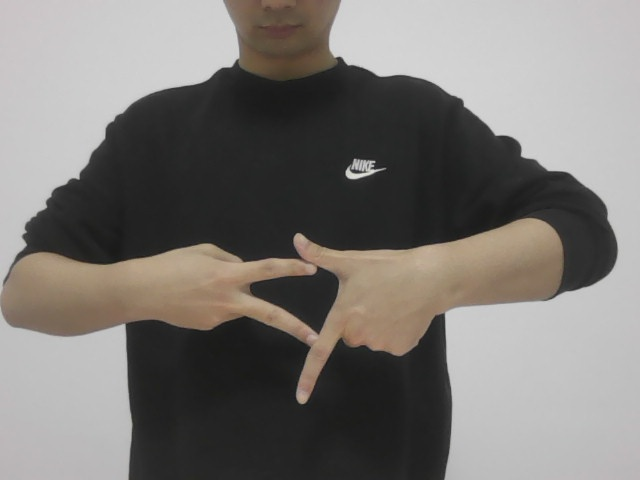introduce: (123, 230, 439, 411)
